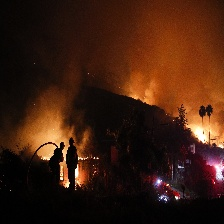fire: (73, 152, 98, 186), (189, 121, 211, 143)
smoke: (15, 6, 147, 117)
